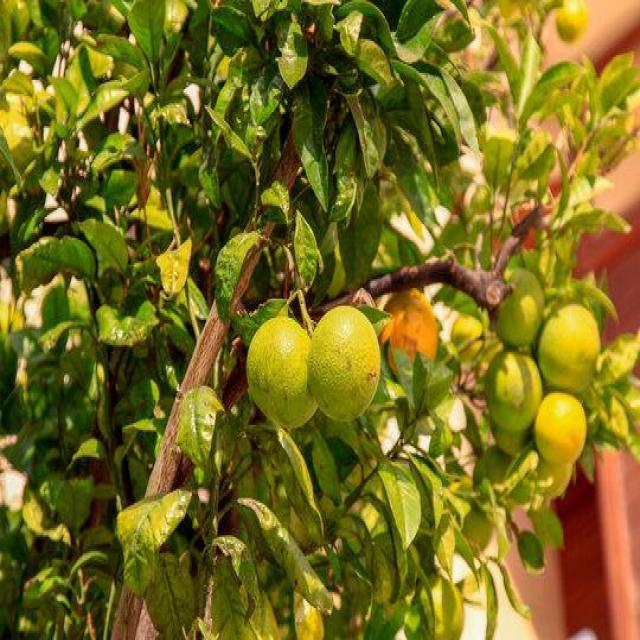Jeruk Belum Matang: (307, 306, 383, 422), (248, 314, 318, 426), (539, 300, 601, 390), (486, 350, 542, 432), (494, 272, 542, 348), (536, 392, 584, 462)
